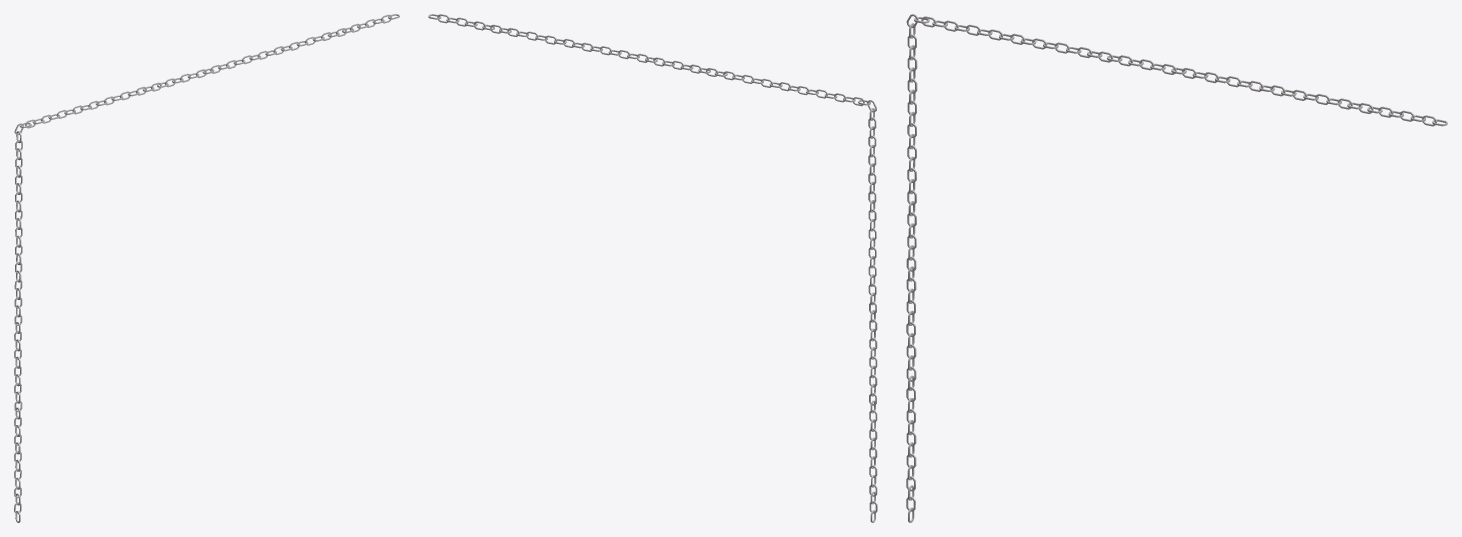
3 renders of one model, left to right at view 1: azimuth 30°, elevation 25°; view 2: azimuth 150°, elevation 25°; view 3: azimuth 330°, elevation 25°, orthographic. The views are drawn at different scales.
Visible parts, largest first — view 1: C_L_5; view 2: C_L_5; view 3: C_L_5.
Part boxes in pixels (<box>): C_L_5: <box>14,14,399,522</box>; C_L_5: <box>428,14,877,522</box>; C_L_5: <box>906,14,1447,522</box>.
Bounding box in the file's own units: 185 × 175 × 18.54.
2 materials, 2 textured.
